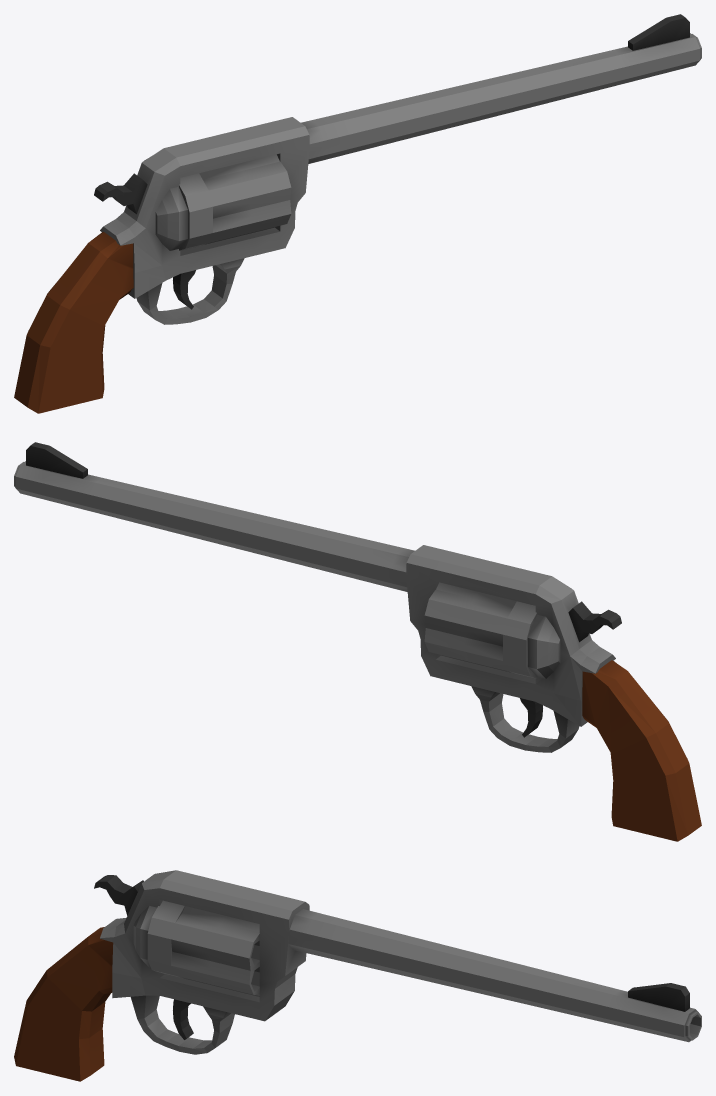
File: v-revolver-a-long.glb
The picture shows the model from 3 angles, top to bottom: view 1: azimuth 30°, elevation 25°; view 2: azimuth 150°, elevation 25°; view 3: azimuth 330°, elevation 25°; orthographic projection.
Visible parts, largest first — view 1: body; view 2: body; view 3: body.
Part boxes in pixels (<box>): body: <box>14,14,701,413</box>; body: <box>14,442,701,841</box>; body: <box>14,870,701,1081</box>.
Bounding box in the file's own units: 0.286 × 0.0931 × 0.0308.
